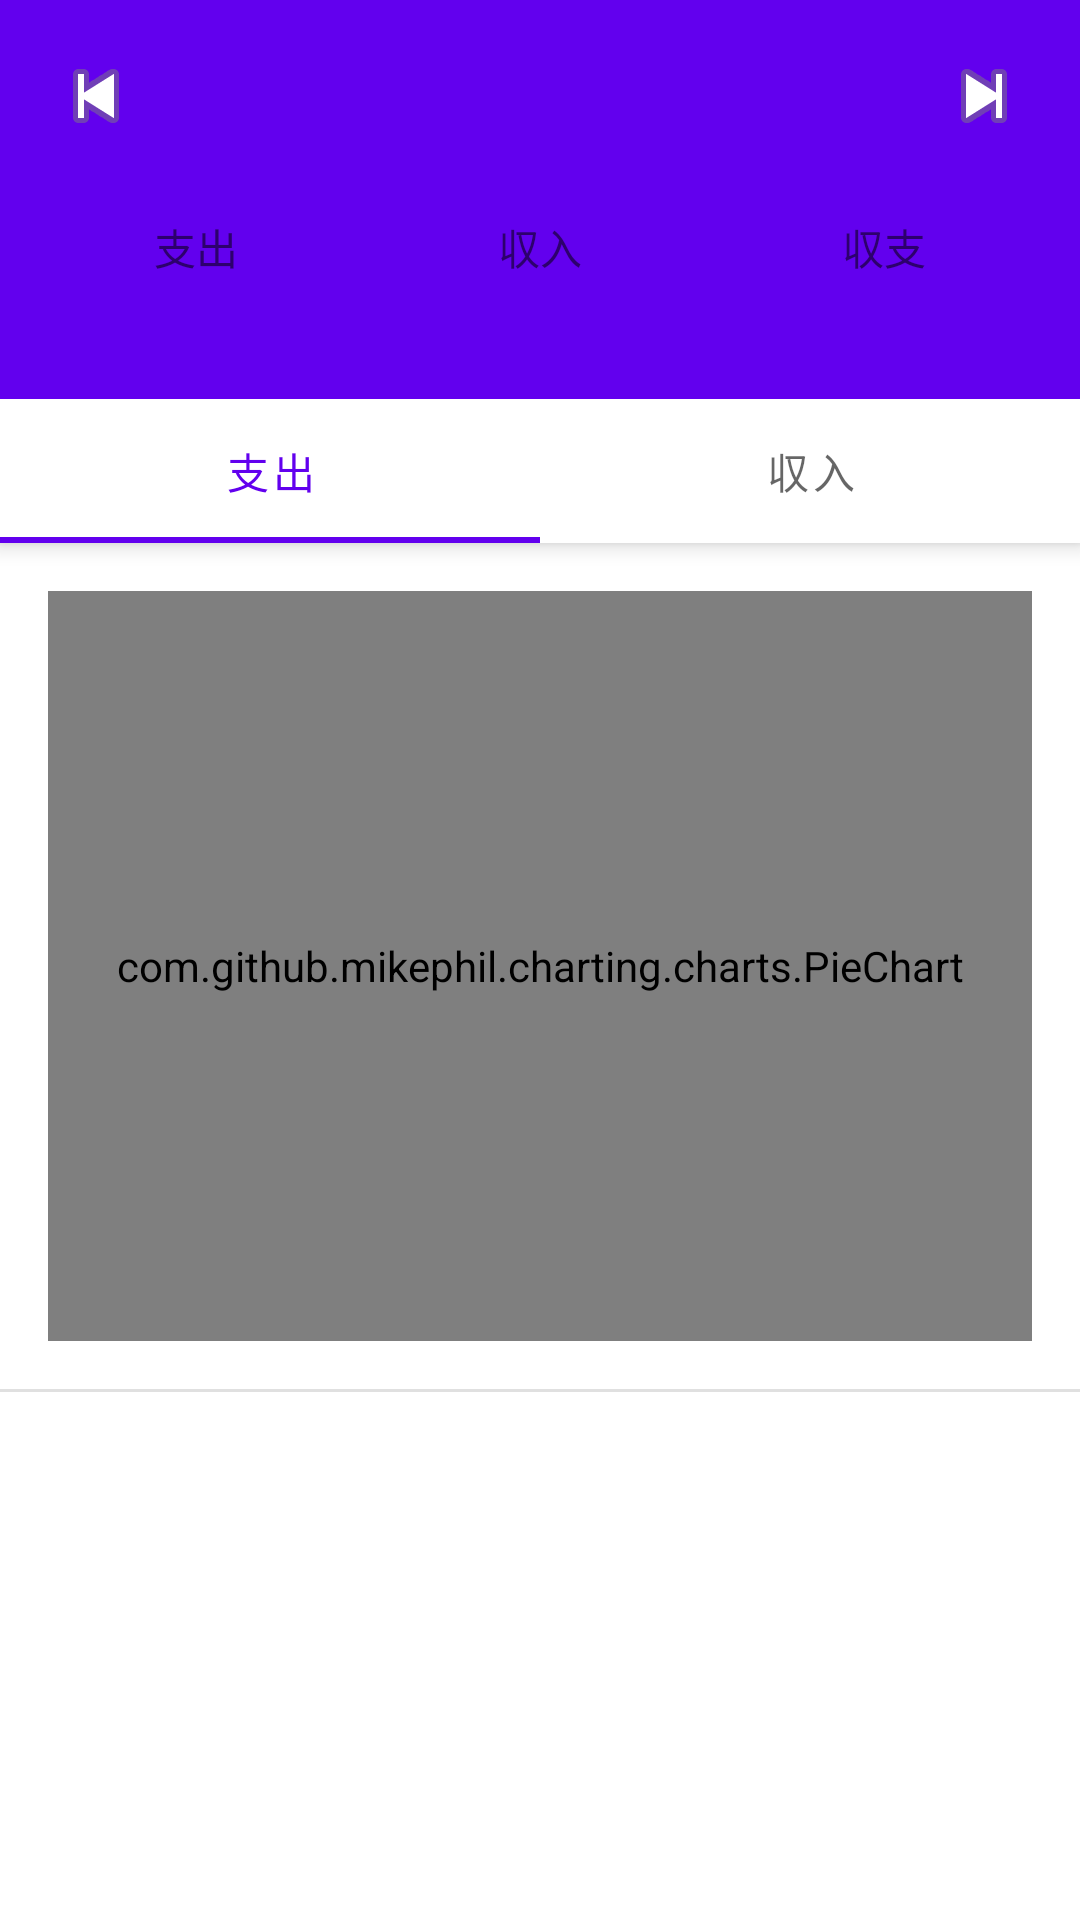

Screen size 1080 x 1920. Icon name, then its center in pixels as point (x, y):
前月: point (96, 96)
翌月: point (984, 96)
